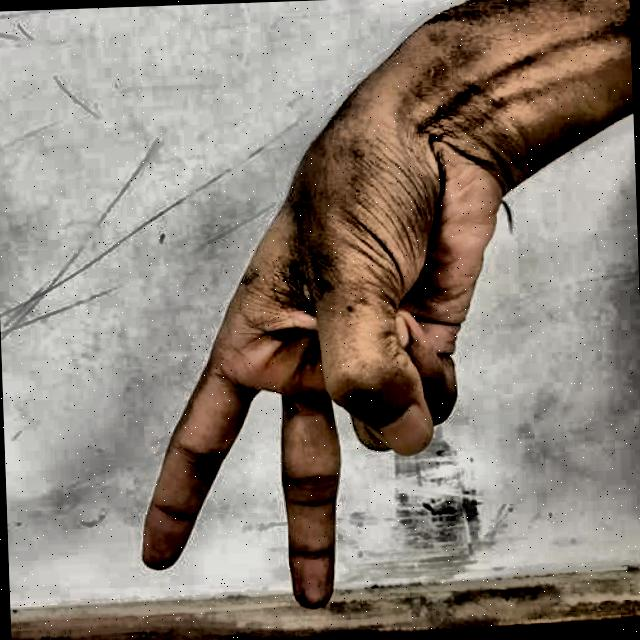Pa: (66, 28, 540, 628)
